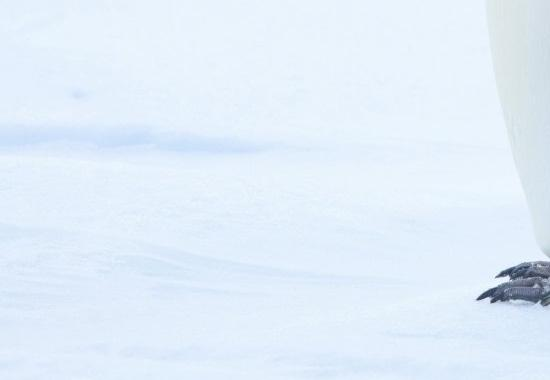Emperor Penguin: (366, 0, 550, 355)
